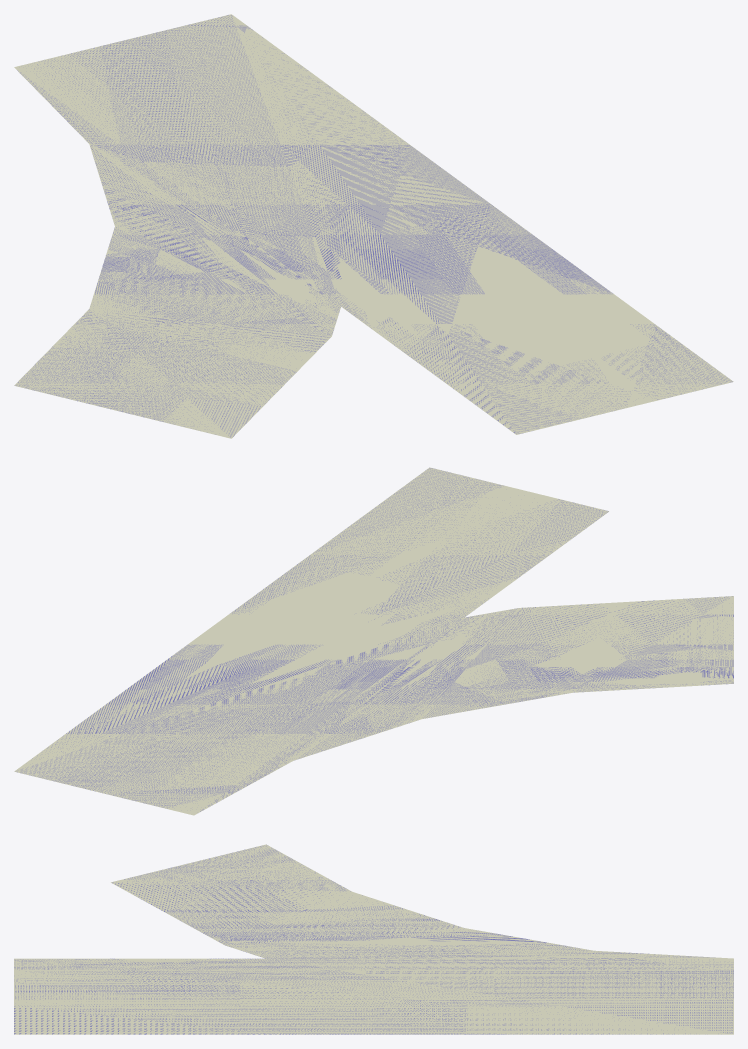
The picture shows the model from 3 angles, top to bottom: view 1: azimuth 30°, elevation 25°; view 2: azimuth 150°, elevation 25°; view 3: azimuth 270°, elevation 25°; orthographic projection. The views are drawn at different scales.
Parts seen in each view (by area): view 1: Model; view 2: Model; view 3: Model.
Part boxes in pixels (left/top/right/bottom): Model: left=14, top=14, right=733, bottom=438; Model: left=14, top=467, right=733, bottom=815; Model: left=14, top=844, right=733, bottom=1034.
Size of the model in its own units: 25 by 0 by 40.
